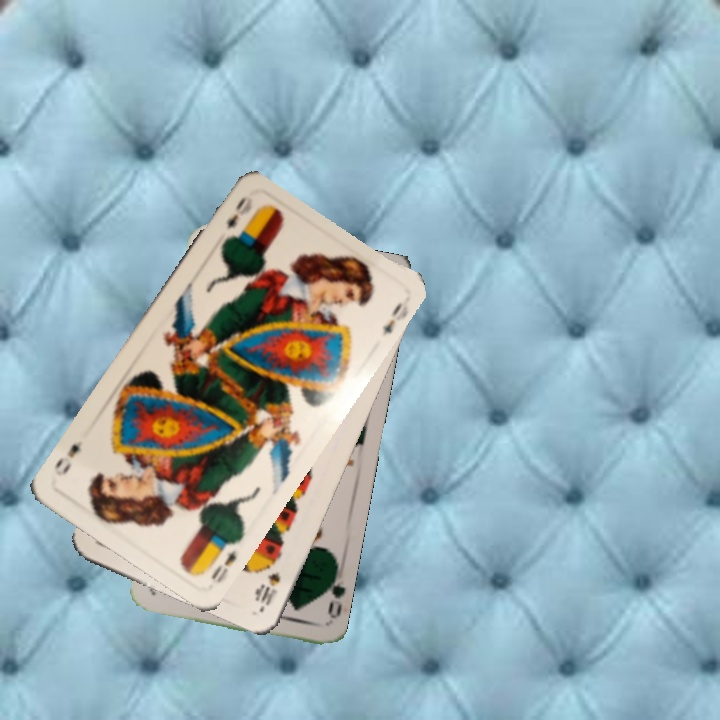EO: (198, 536, 242, 586), (222, 192, 256, 232)
GO: (317, 563, 346, 621)
S10: (252, 567, 283, 611)
